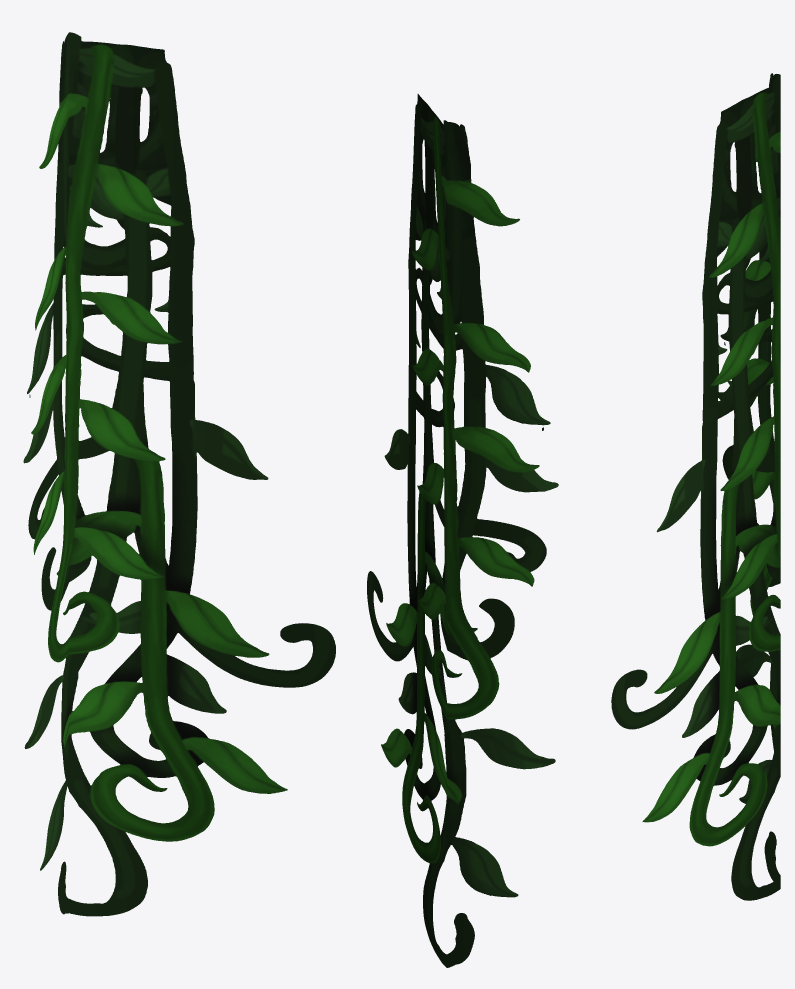
File: sm_env_longcornervines.fbx
3 renders of one model, left to right at view 1: azimuth 30°, elevation 25°; view 2: azimuth 150°, elevation 25°; view 3: azimuth 270°, elevation 25°, orthographic. The views are drawn at different scales.
Visible parts, largest first — view 1: pPlane88; view 2: pPlane88; view 3: pPlane88.
Boxes of the visible parts, x1,y1,x2,y2 form: pPlane88: (23,32,335,916); pPlane88: (367,94,558,967); pPlane88: (611,73,780,900).
Size of the model in its own units: 92.85 by 294 by 54.13.
